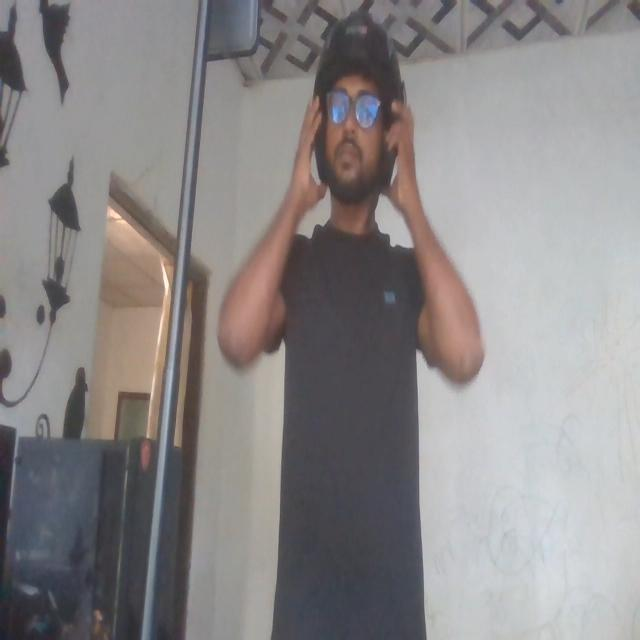Helmet_Wearer: (297, 2, 401, 249)
Person: (224, 0, 476, 640)
